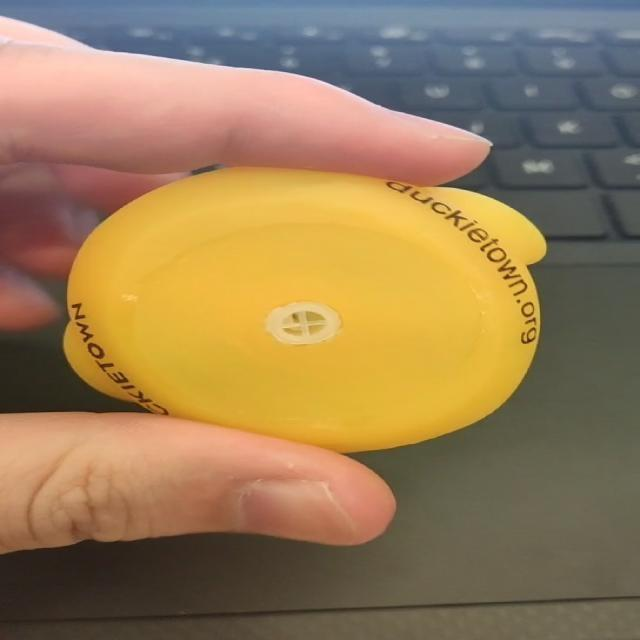rubber-duck: (63, 167, 544, 450)
